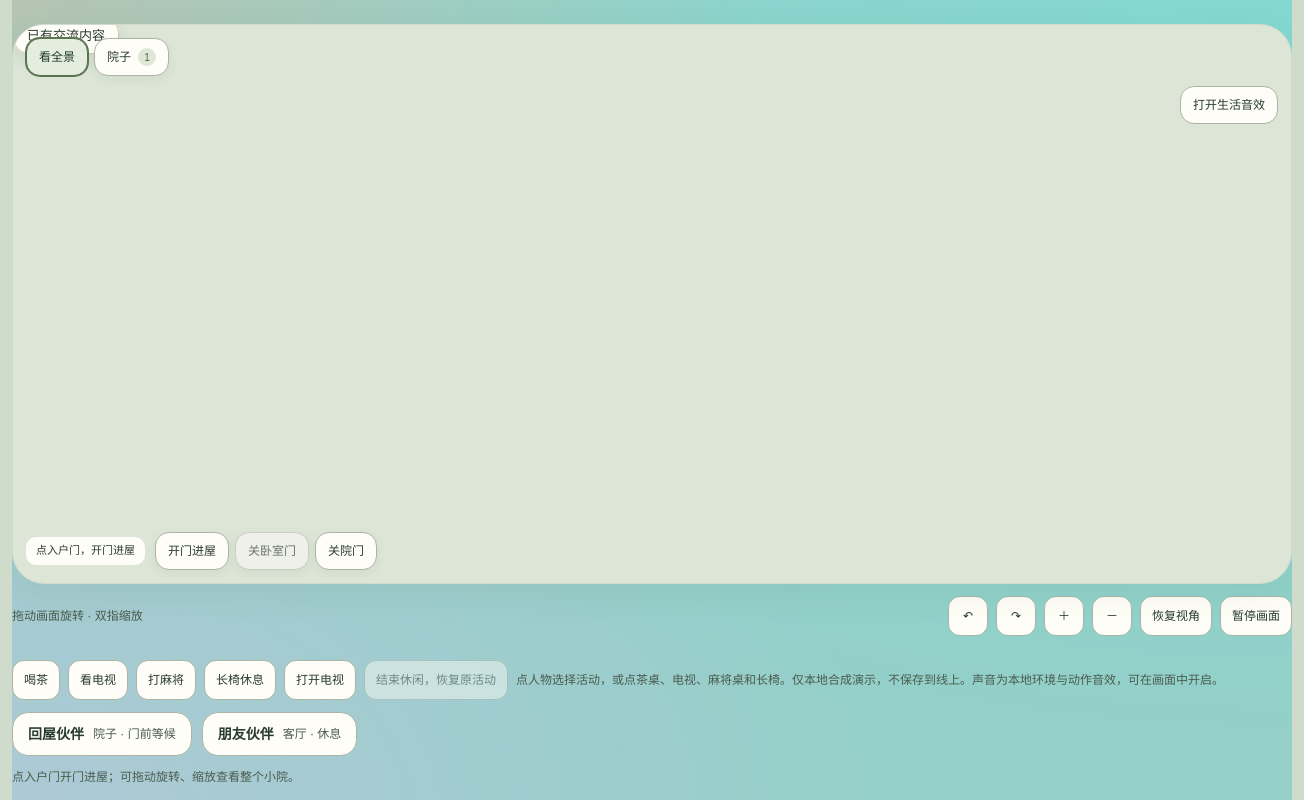
Test: physical presence callback on the real React scene component › shows waiting in the list and menu while keeping the existing dialogue bubble untouched
Click the button with aria-label "查看回屋伙伴的生活近况" at x=102, y=734, box [12,712,192,756]
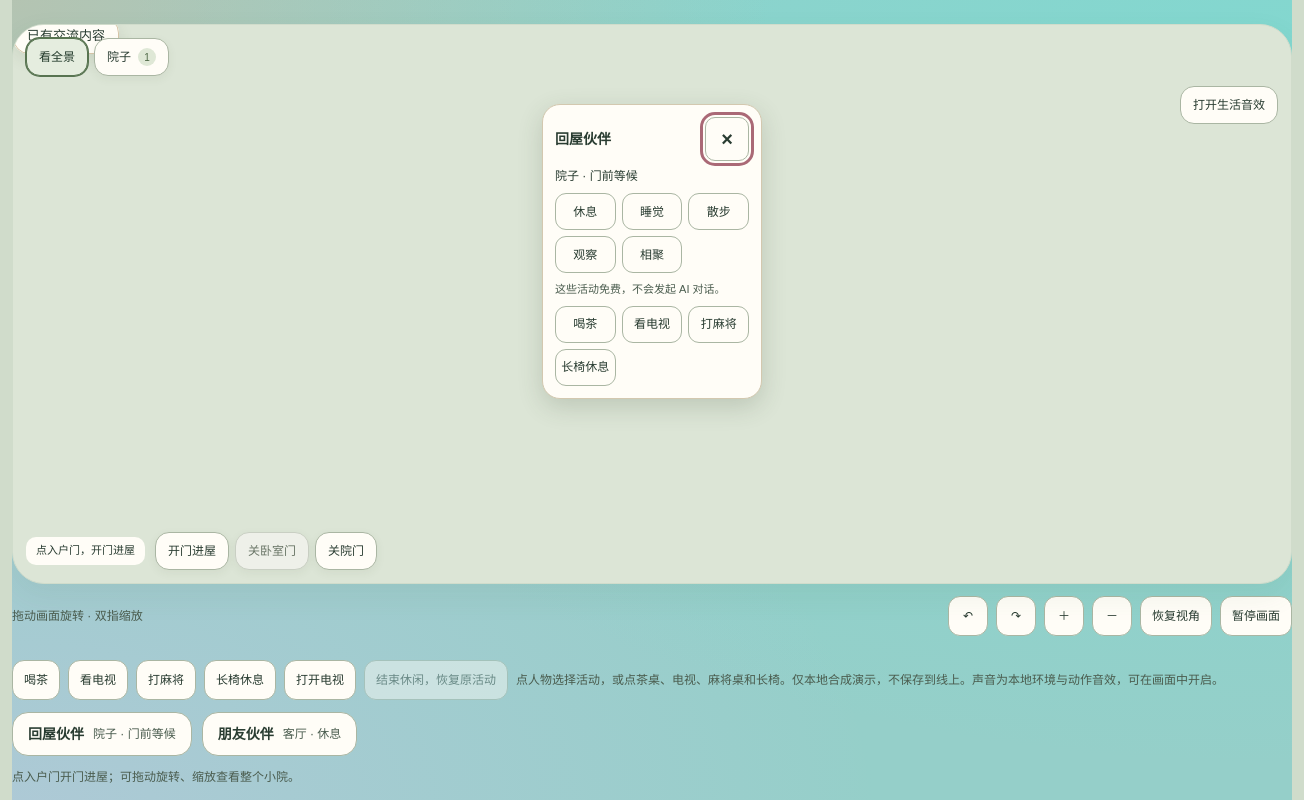
Expected: the text with class "living3d-bubble" reads "已有交流内容", [27,28,105,43]
Result: the element named "回屋伙伴的活动" shows "院子 · 门前等候" at [542,104,762,398]
